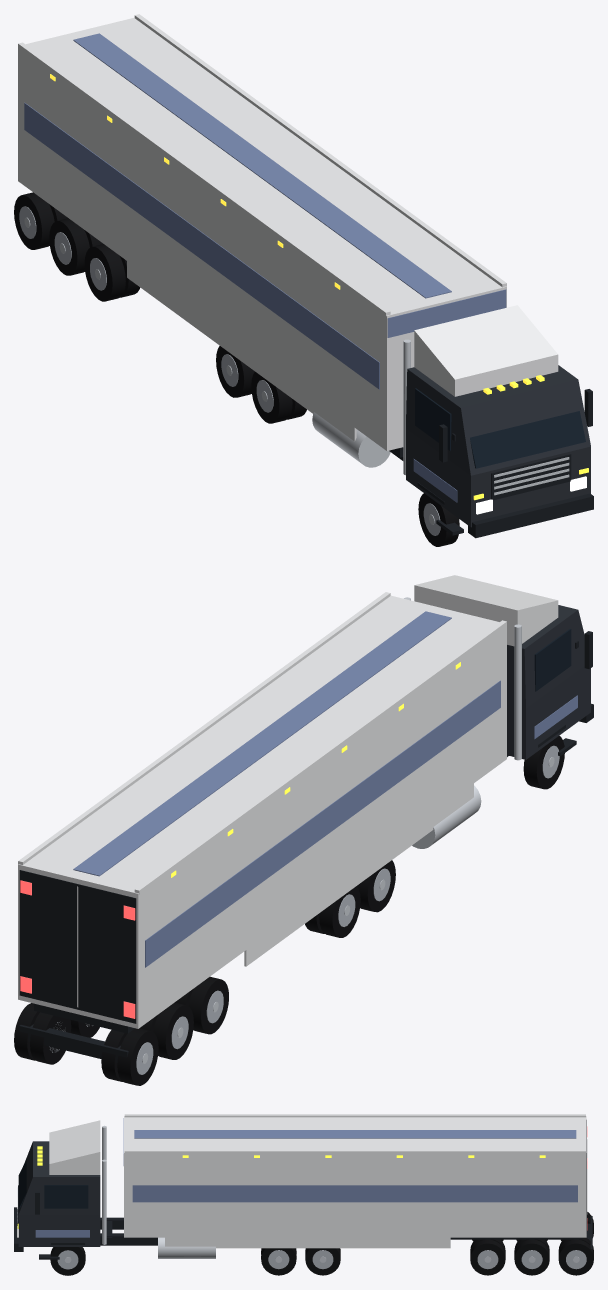
Rendered from truck-scheduled.glb.
3 views of the same model, one above another, from view 1: azimuth 30°, elevation 25°; view 2: azimuth 150°, elevation 25°; view 3: azimuth 270°, elevation 25° (orthographic). The views are drawn at different scales.
Parts seen in each view (by area): view 1: tractocamion; view 2: tractocamion; view 3: tractocamion.
Part boxes in pixels (<box>): tractocamion: <box>14,14,593,546</box>; tractocamion: <box>14,575,593,1085</box>; tractocamion: <box>14,1114,593,1275</box>.
Bounding box in the file's own units: 3.2 × 4.06 × 17.06.
